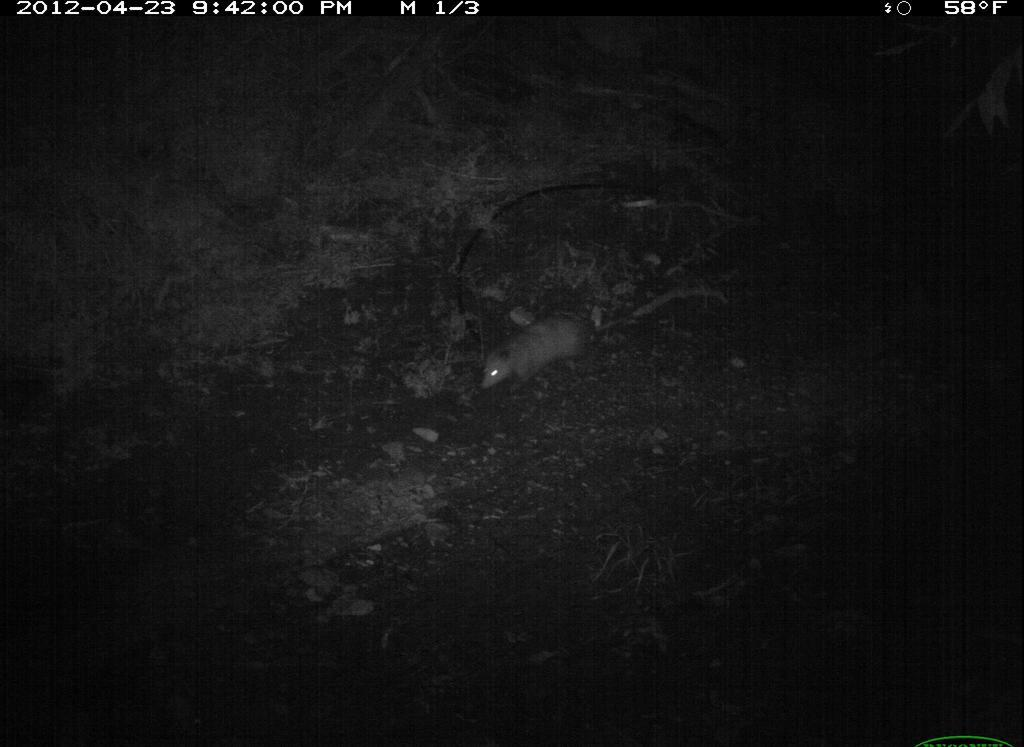opossum: (464, 312, 623, 399)
